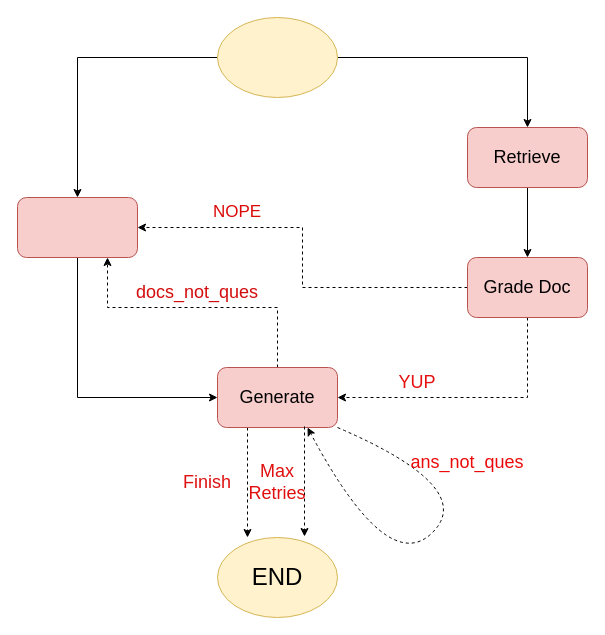
This 605x635 diagram has some shape labels left out. Each missing label, with the box of its shape:
START: (216, 16, 338, 98)
Web Search: (16, 196, 138, 258)
